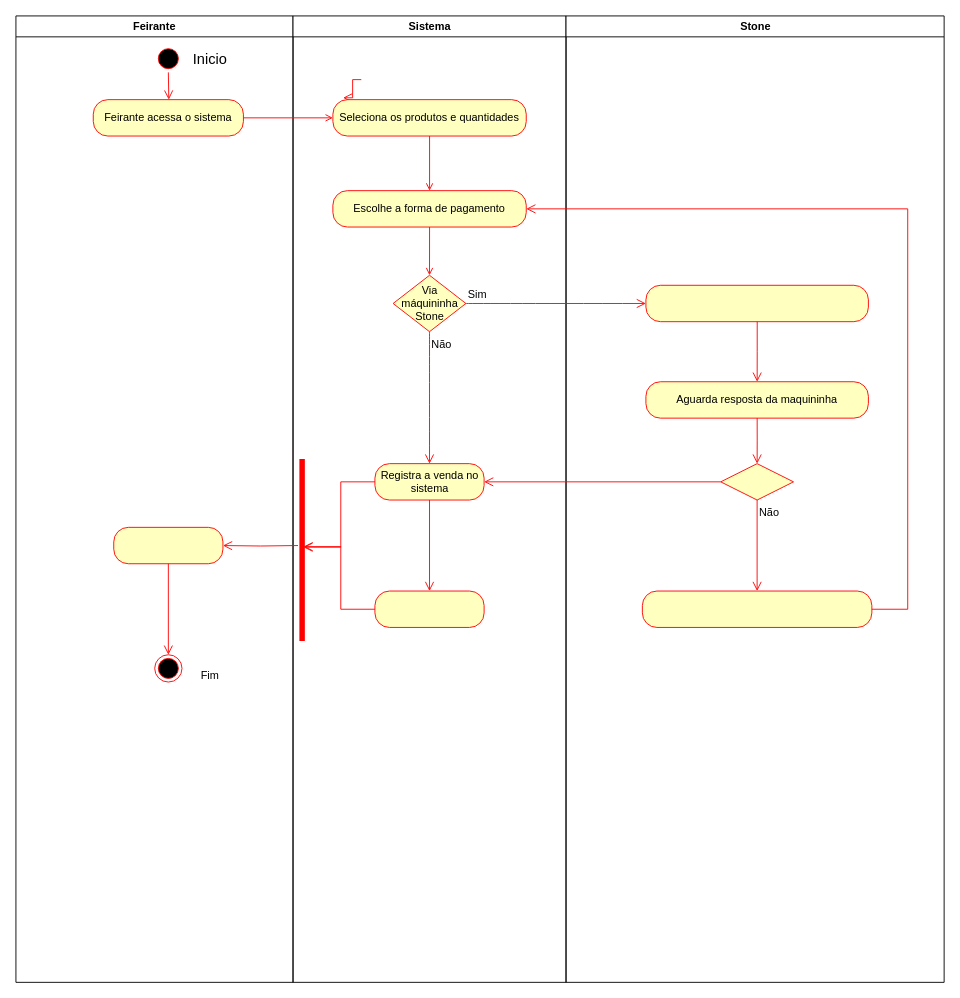
Some shapes in this 960 by 998 pixel diagram are drawn without their labels. Each missing label, with the centre of its shape:
"Aprovado?" goes at (757,481).
"Atualiza o estoque" goes at (429,608).
"Exibe comprovante da venda" goes at (168,545).
"exibe erro e retorna à escolha de pagamento" goes at (756,608).
"Sistema envia solicitação para a Stone" goes at (756,303).
